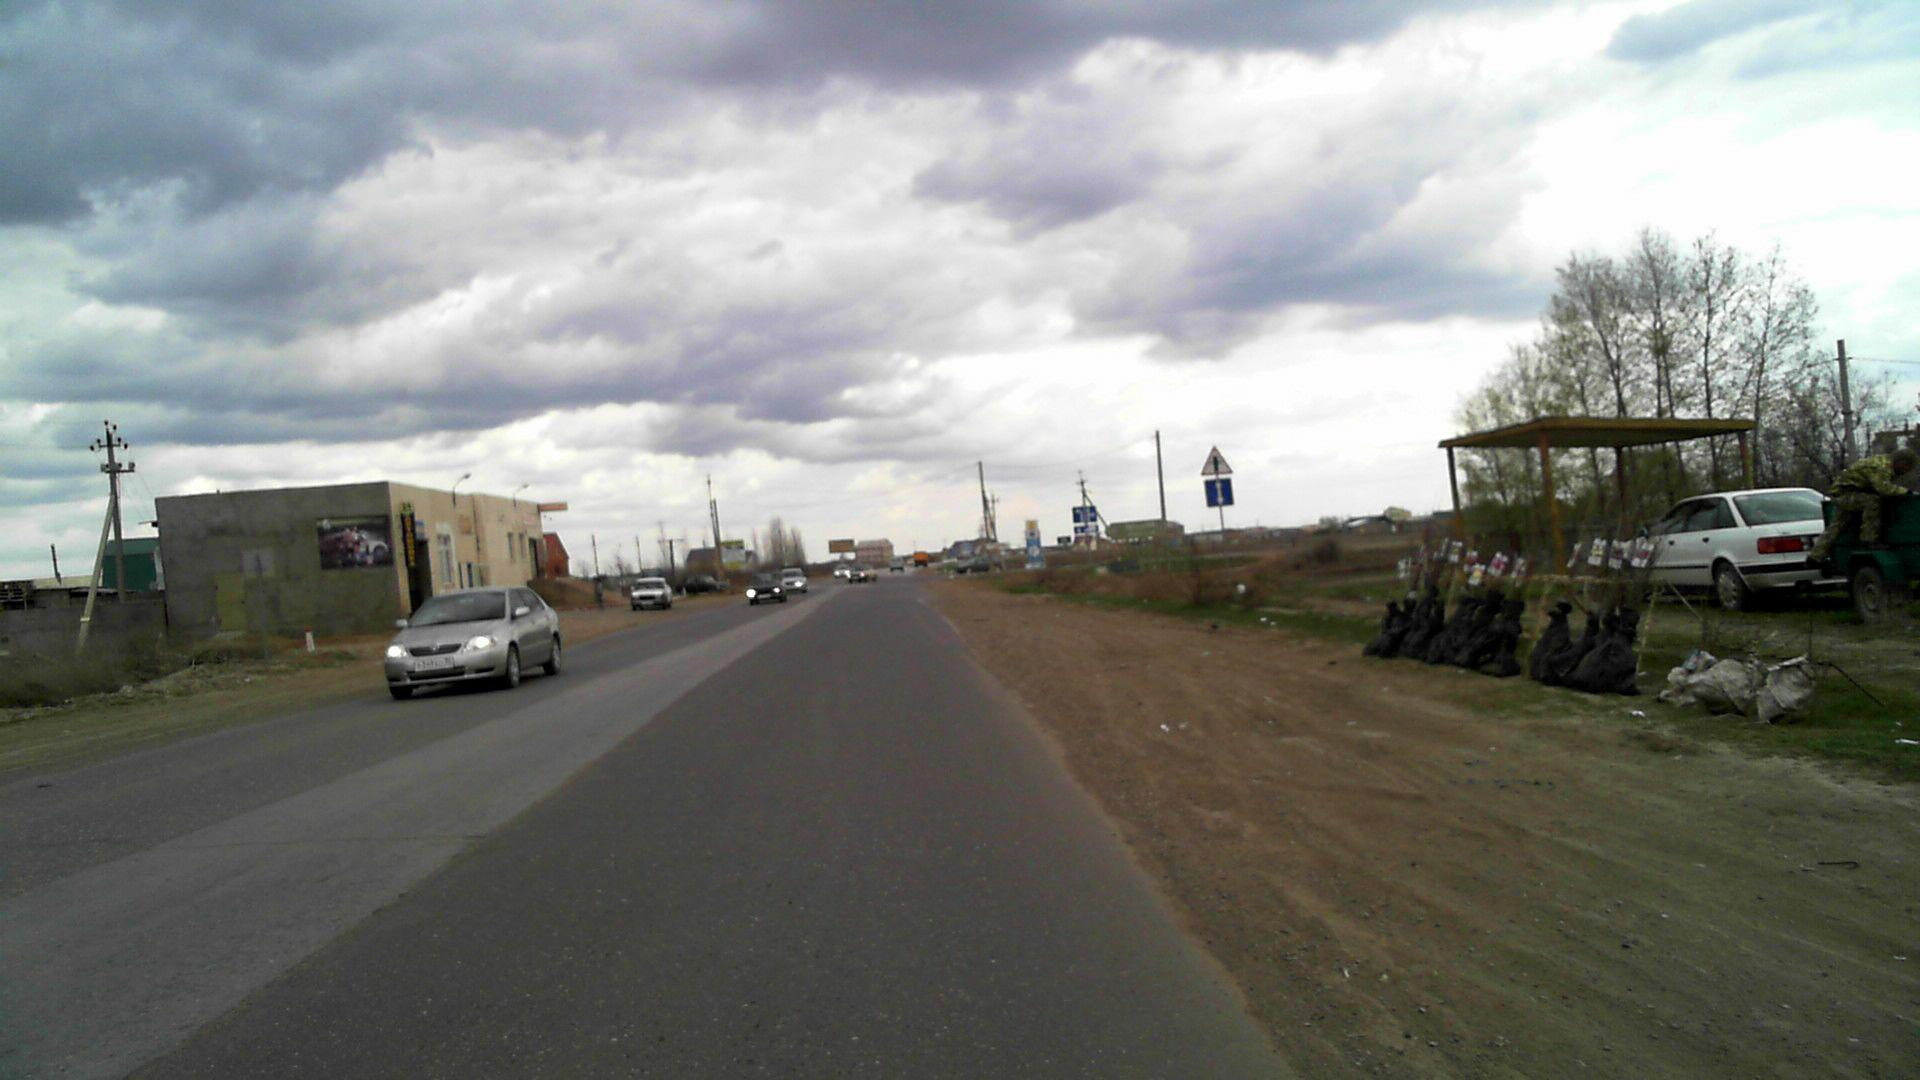2_3_1: (1201, 444, 1234, 475)
4_8_1: (1025, 518, 1039, 539)
5_15_1: (1071, 505, 1097, 522)
5_24_1: (985, 542, 1010, 550)
5_8: (1204, 479, 1234, 506)
6_15_1: (1073, 524, 1098, 534)
